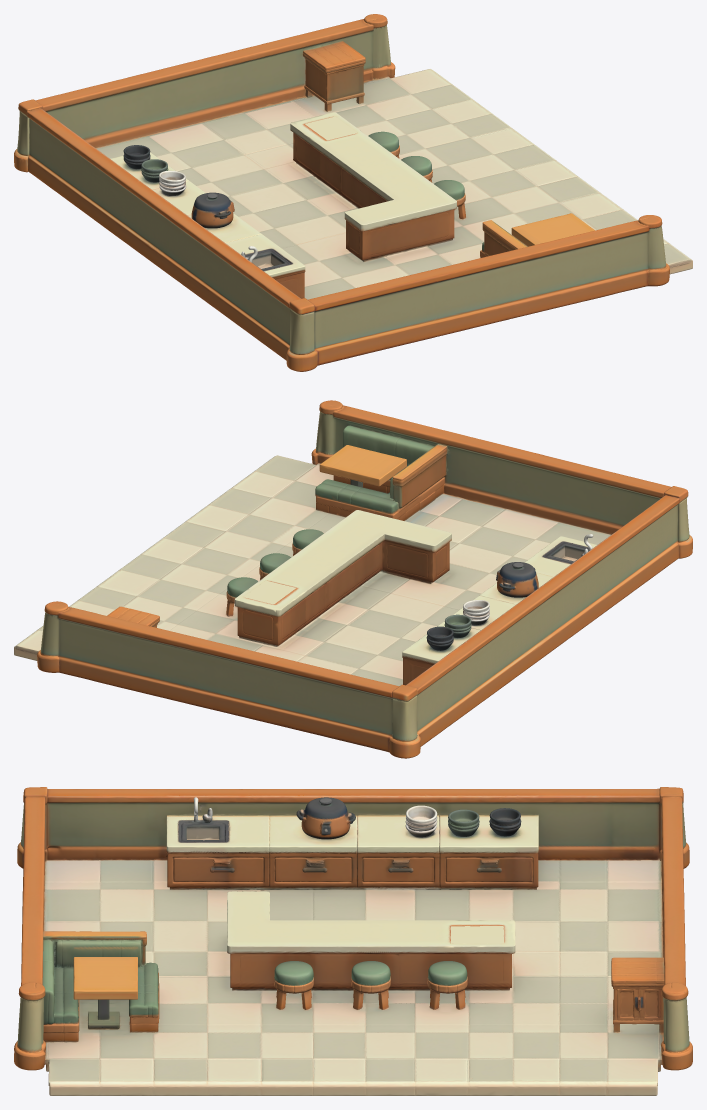
File: sushi-room-v7-clean.glb
The picture shows the model from 3 angles, top to bottom: view 1: azimuth 30°, elevation 25°; view 2: azimuth 150°, elevation 25°; view 3: azimuth 270°, elevation 25°; orthographic projection. The views are drawn at different scales.
Parts seen in each view (by area): view 1: tripo_node_a3a16fa9-78f9-4142-bdfb-e2b08369d9fc; view 2: tripo_node_a3a16fa9-78f9-4142-bdfb-e2b08369d9fc; view 3: tripo_node_a3a16fa9-78f9-4142-bdfb-e2b08369d9fc.
Part boxes in pixels (box(x1,y1,x2,y2)): tripo_node_a3a16fa9-78f9-4142-bdfb-e2b08369d9fc: box(14, 14, 692, 371); tripo_node_a3a16fa9-78f9-4142-bdfb-e2b08369d9fc: box(14, 400, 692, 758); tripo_node_a3a16fa9-78f9-4142-bdfb-e2b08369d9fc: box(14, 787, 692, 1095).
Size of the model in its own units: 5.66 by 1 by 6.92.
1 material, 1 textured.
